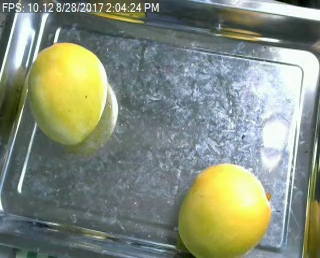Mango: (174, 165, 275, 255), (26, 40, 107, 146)
